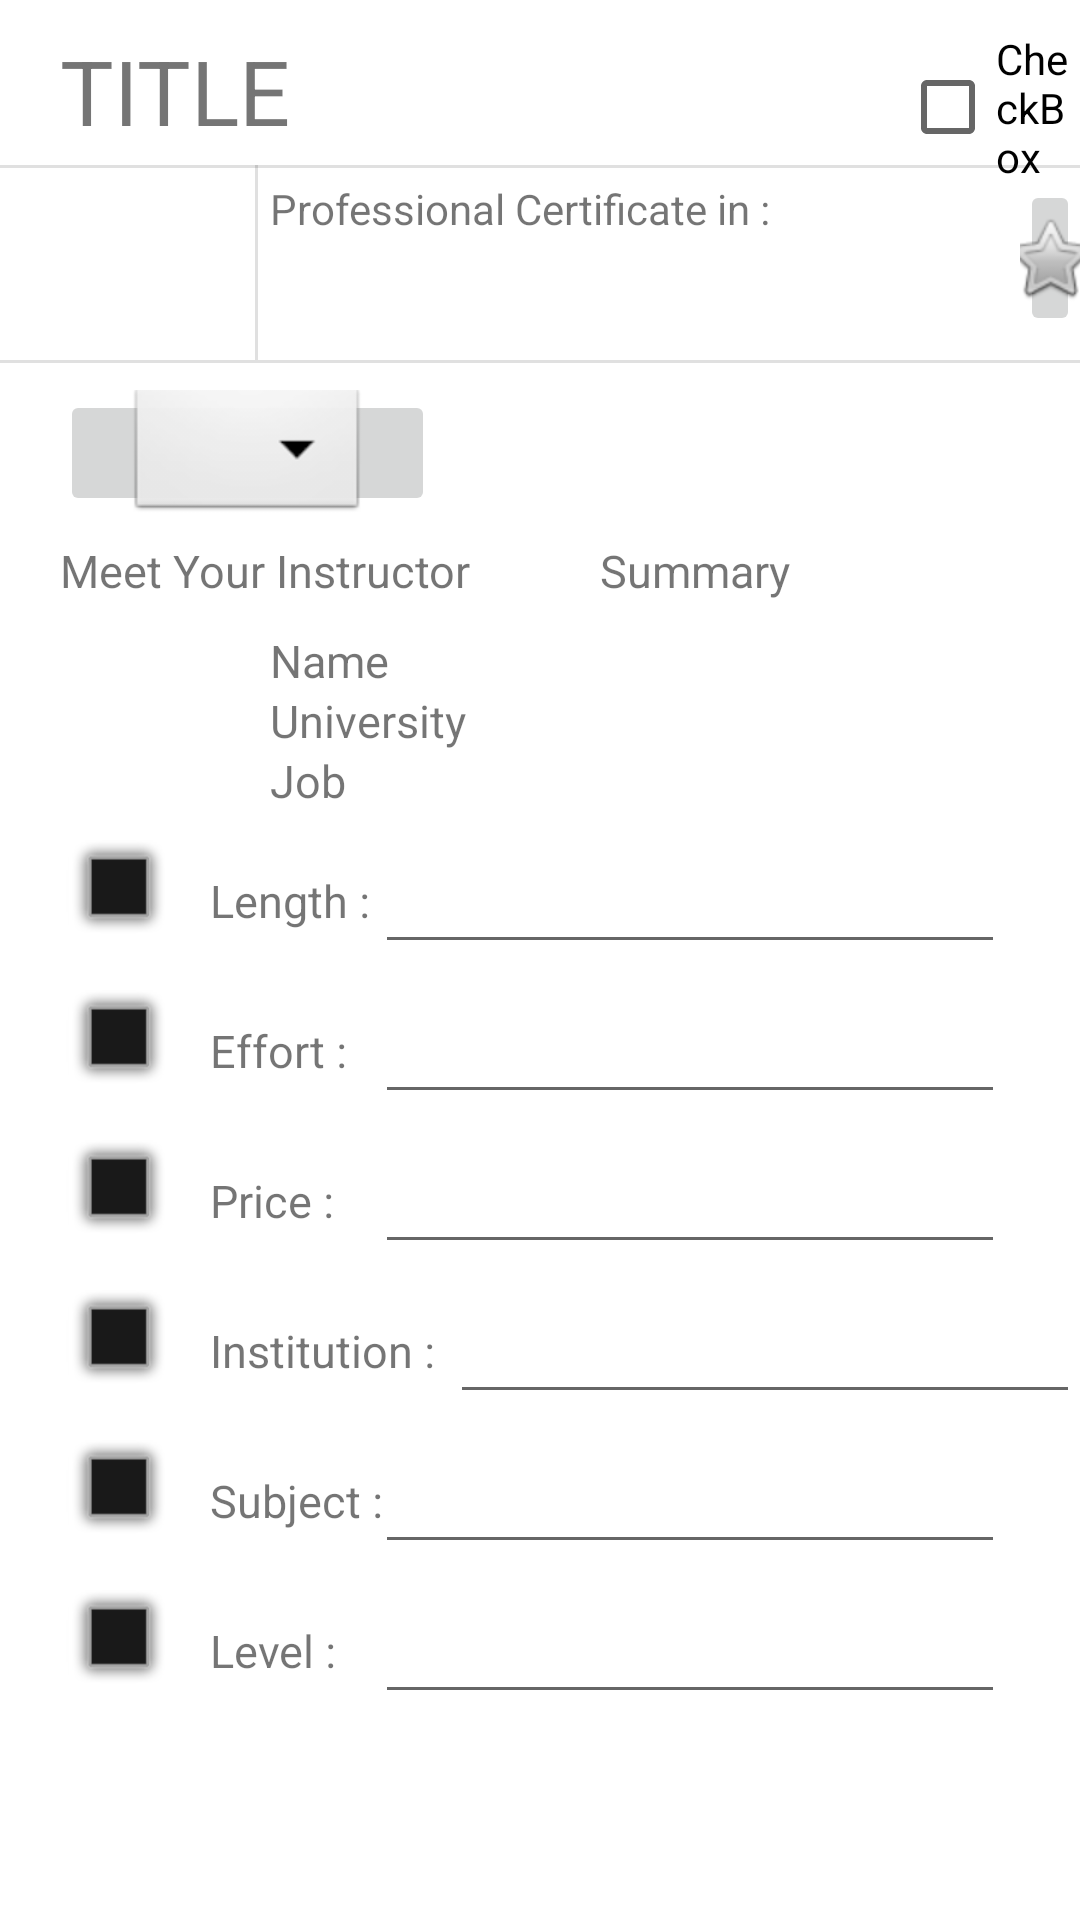

Screen size 1080 x 1920. Icon name, then its box in pixels as detection(x1, y1, x2, y2):
dropdown: detection(72, 390, 423, 511)
star: detection(1020, 198, 1080, 318)
